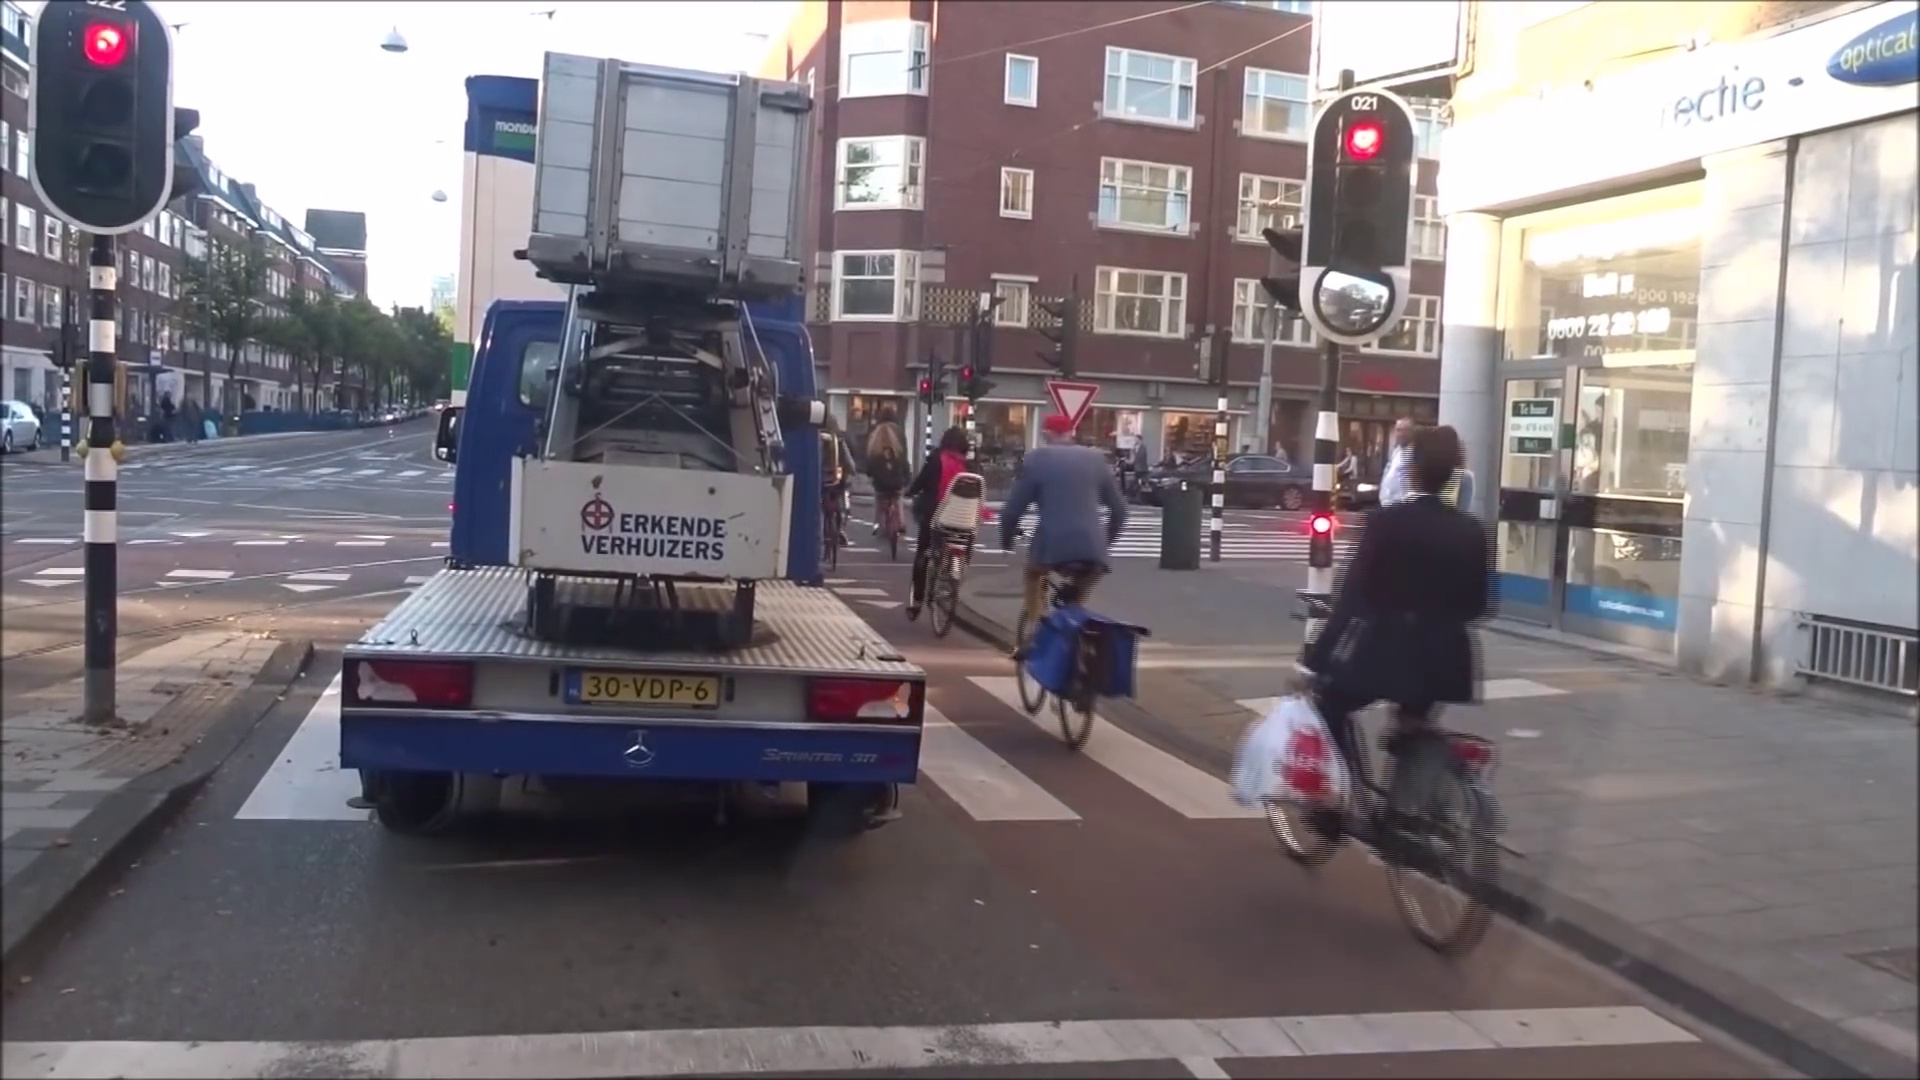cyclist_back: (1258, 425, 1524, 958), (1007, 408, 1144, 772), (905, 421, 987, 652), (862, 396, 913, 564), (818, 408, 859, 573)
